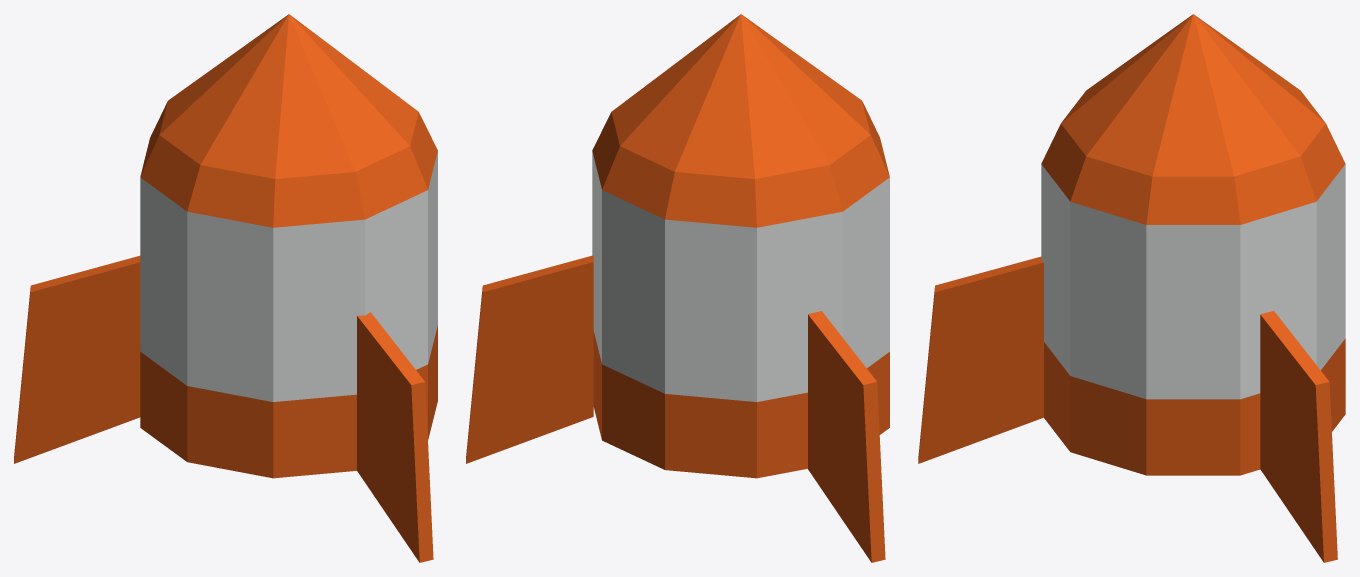
File: rocket.glb
The picture shows the model from 3 angles, left to right: view 1: azimuth 30°, elevation 25°; view 2: azimuth 150°, elevation 25°; view 3: azimuth 270°, elevation 25°; orthographic projection.
Visible parts, largest first — view 1: 円錐, 円錐.001; view 2: 円錐, 円錐.001; view 3: 円錐, 円錐.001.
Boxes of the visible parts, x1,y1,x2,y2 form: 円錐: (140,14,437,478); 円錐.001: (14,255,433,562); 円錐: (592,14,889,478); 円錐.001: (466,255,885,562); 円錐: (1041,14,1345,475); 円錐.001: (918,256,1337,562).
Size of the model in its own units: 1.19 by 1.21 by 1.05.
